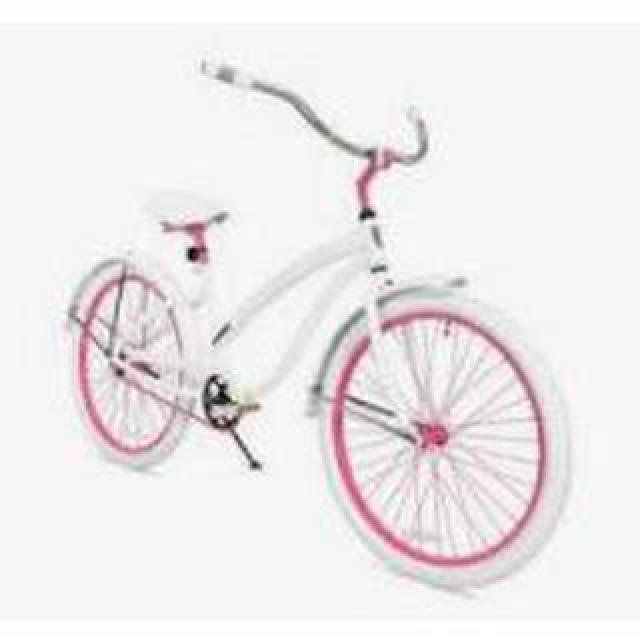Person: (60, 46, 560, 610)
